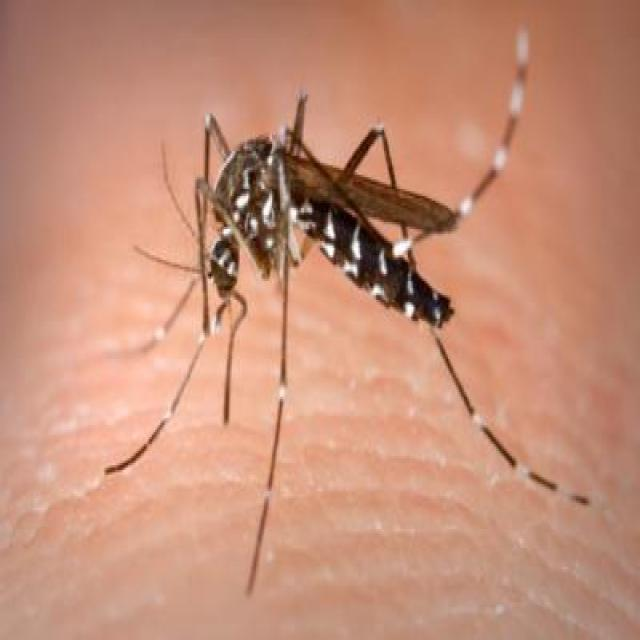antennae: (131, 136, 214, 276)
body: (205, 126, 455, 332)
insect: (101, 25, 597, 582)
legs: (408, 30, 593, 525), (106, 285, 211, 486), (246, 208, 294, 597)
mouthpart: (208, 263, 260, 419)
wings: (283, 144, 456, 234)
